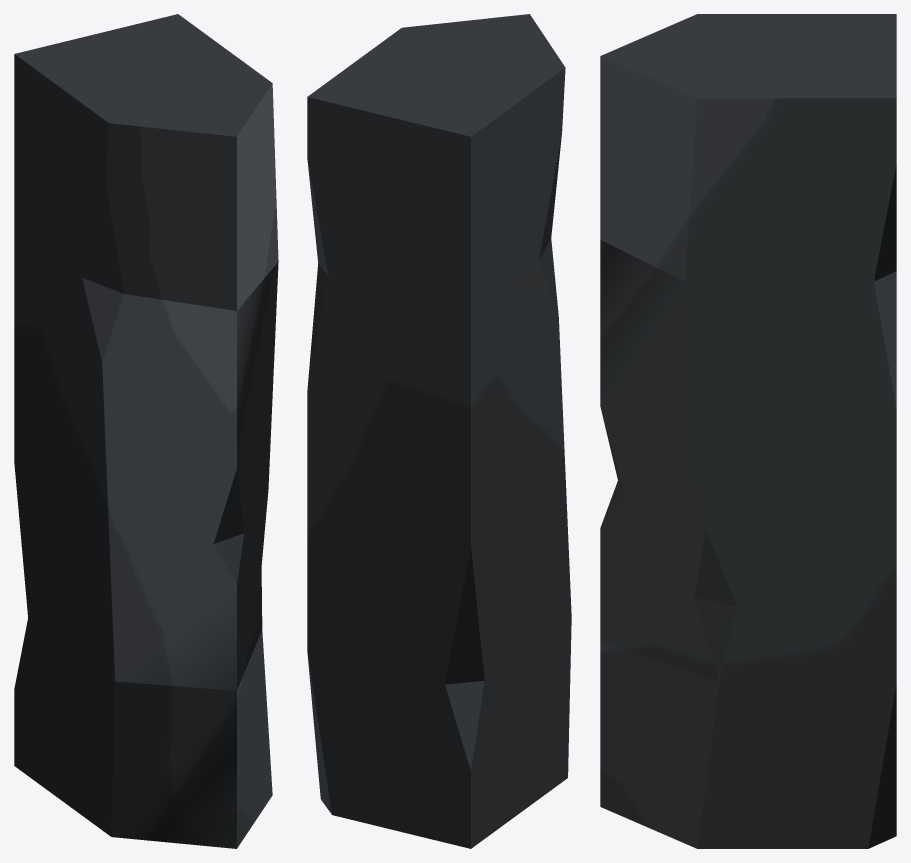
File: pillar.gltf
The picture shows the model from 3 angles, left to right: view 1: azimuth 30°, elevation 25°; view 2: azimuth 150°, elevation 25°; view 3: azimuth 270°, elevation 25°; orthographic projection. The views are drawn at different scales.
Parts seen in each view (by area): view 1: pillar; view 2: pillar; view 3: pillar.
Part boxes in pixels (bbox=[...]): pillar: bbox=[14, 14, 278, 848]; pillar: bbox=[307, 14, 571, 848]; pillar: bbox=[600, 14, 896, 848].
Bounding box in the file's own units: 0.7218 × 3 × 1.07.
1 material, 1 textured.
